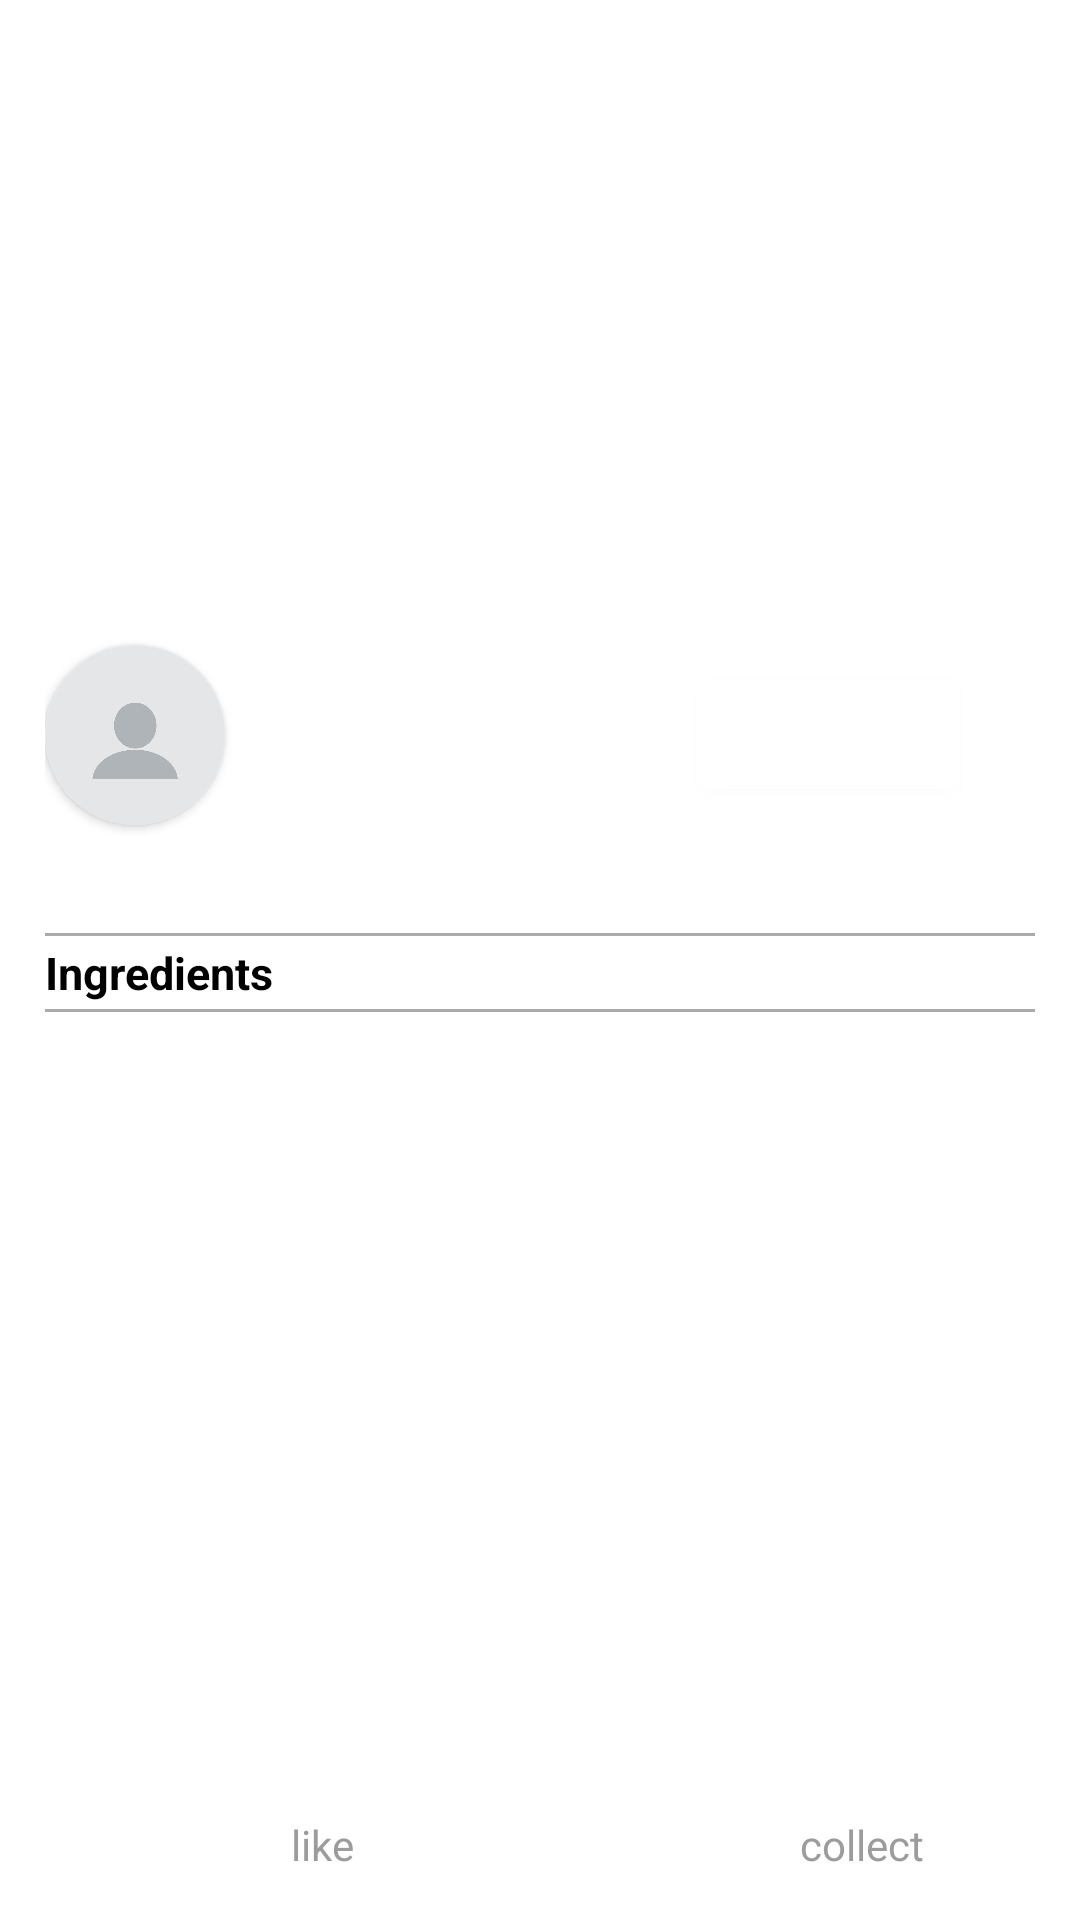

Icons on this 1080w x 1920h Android screen, each with the point to tap as (x,y):
emptyprofileimg: (135,735)
